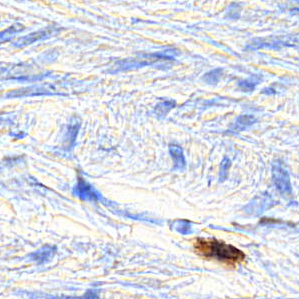Lymphocyte: (193, 235, 246, 267)
